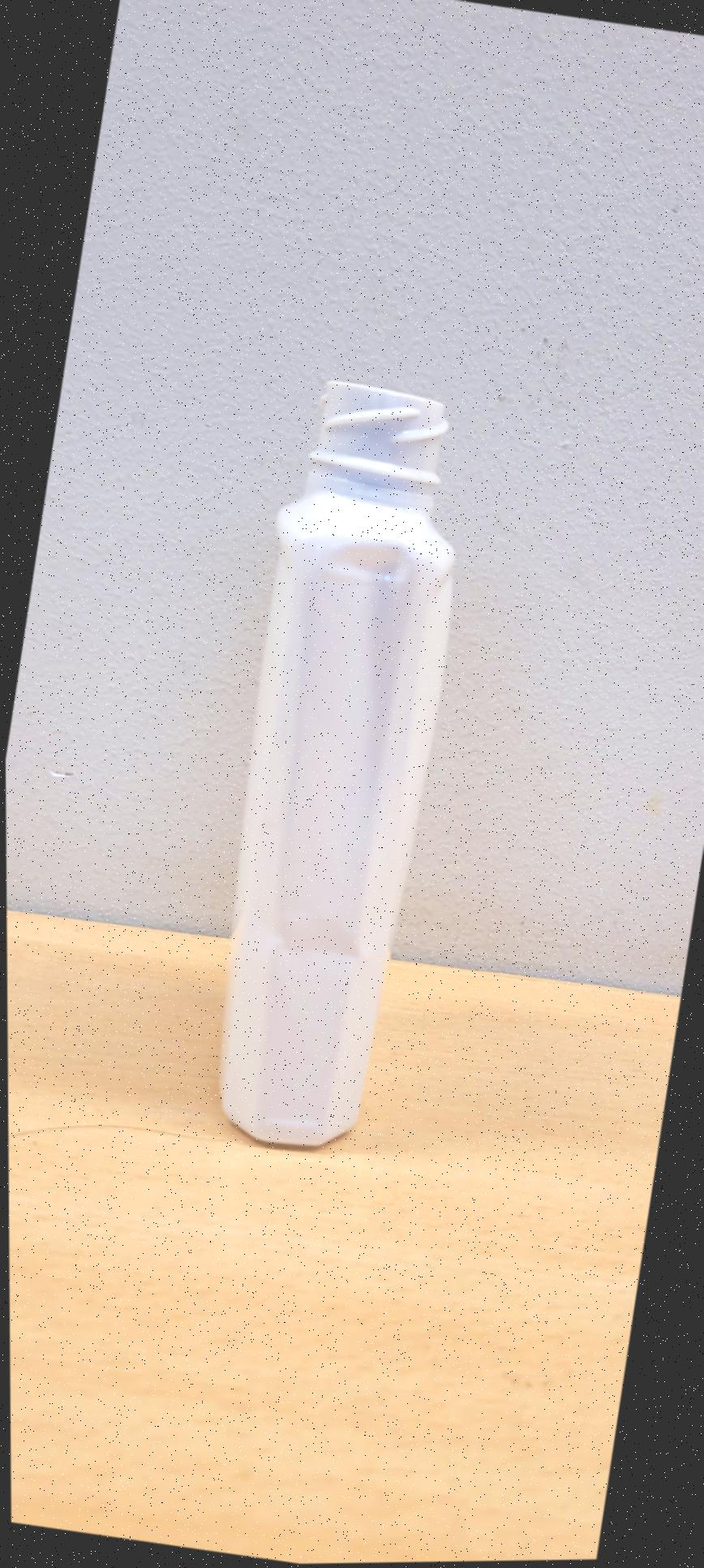bottle: (219, 382, 454, 1147)
